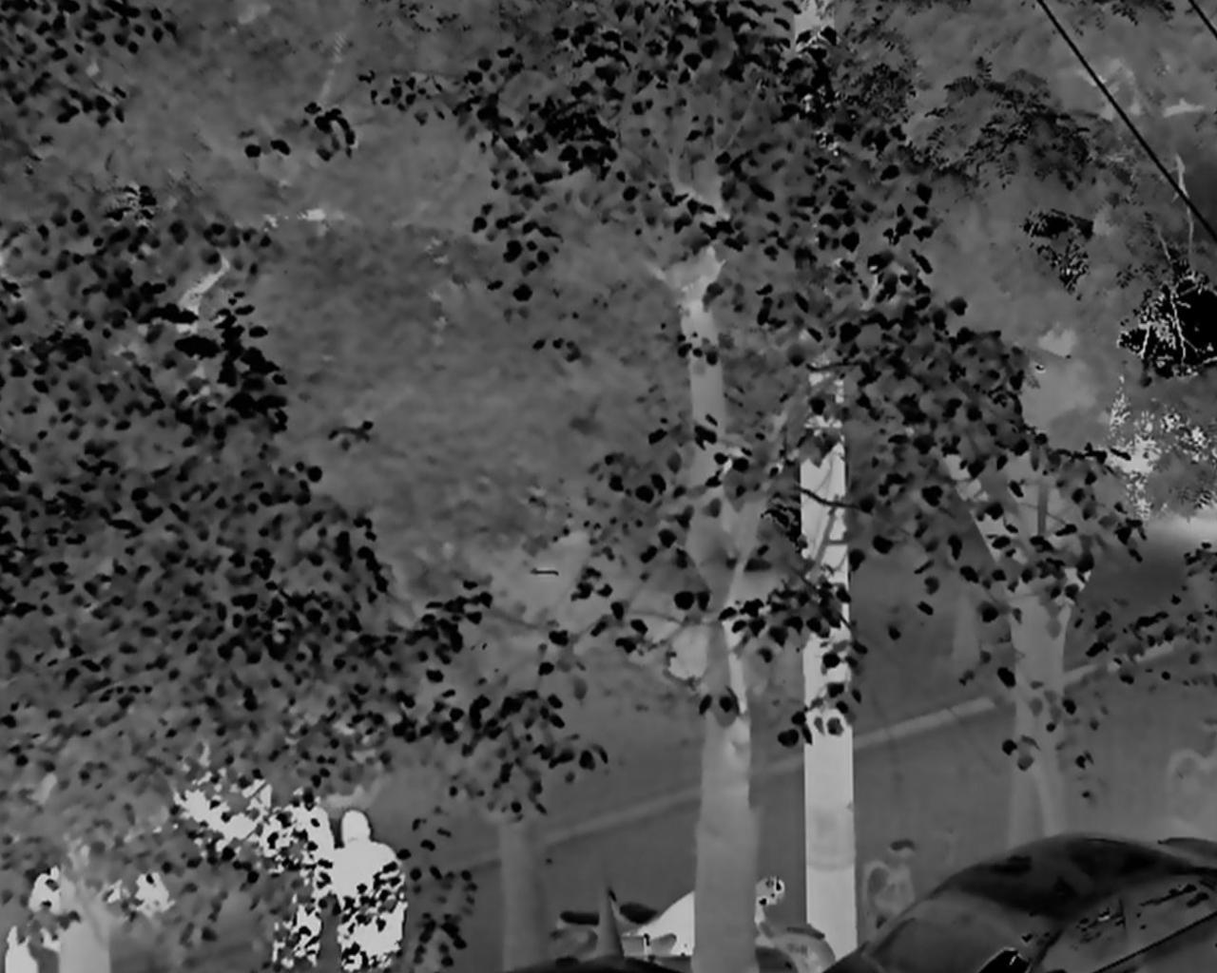person: (263, 789, 332, 973), (335, 809, 404, 973)
